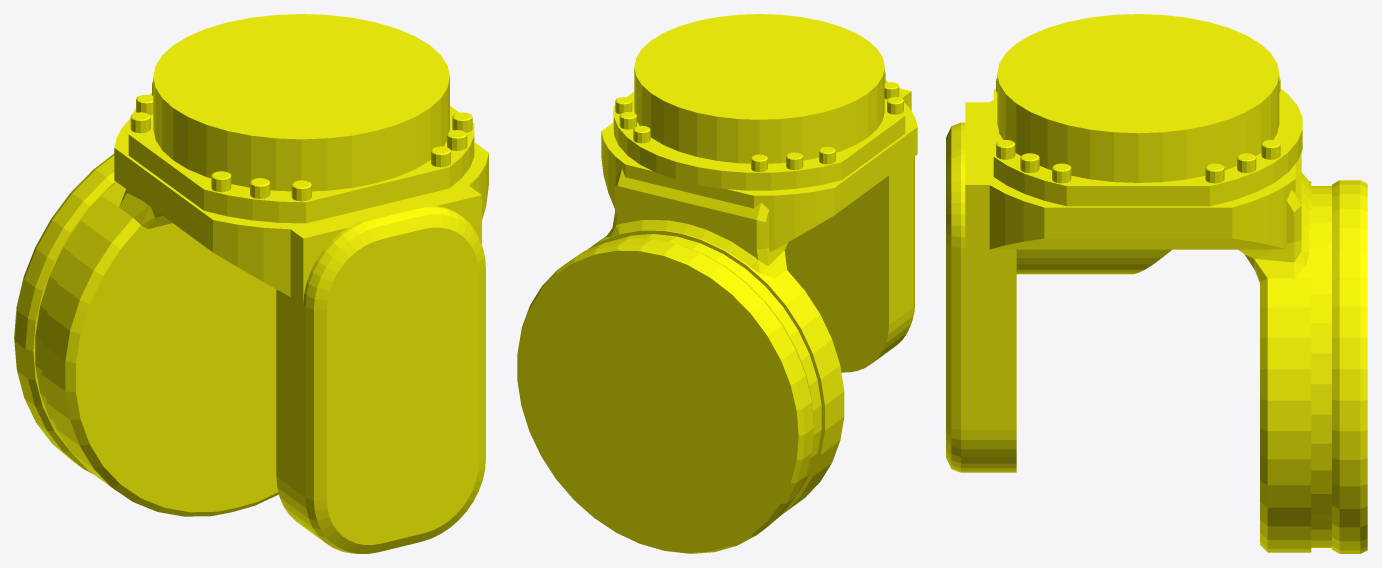
3 renders of one model, left to right at view 1: azimuth 30°, elevation 25°; view 2: azimuth 150°, elevation 25°; view 3: azimuth 270°, elevation 25°, orthographic. The views are drawn at different scales.
Parts seen in each view (by area): view 1: node; view 2: node; view 3: node.
Boxes of the visible parts, x1,y1,x2,y2 form: node: (14, 14, 488, 553); node: (517, 14, 917, 553); node: (946, 14, 1367, 553).
Size of the model in its own units: 252 by 345 by 284.
